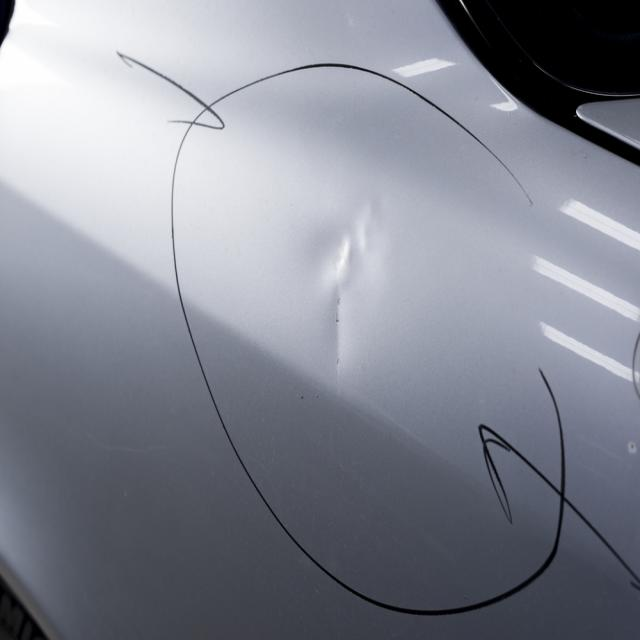dent: (303, 188, 391, 396)
